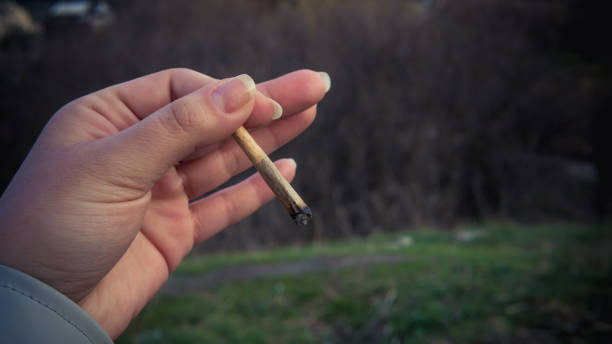cigarette: (236, 127, 315, 227)
